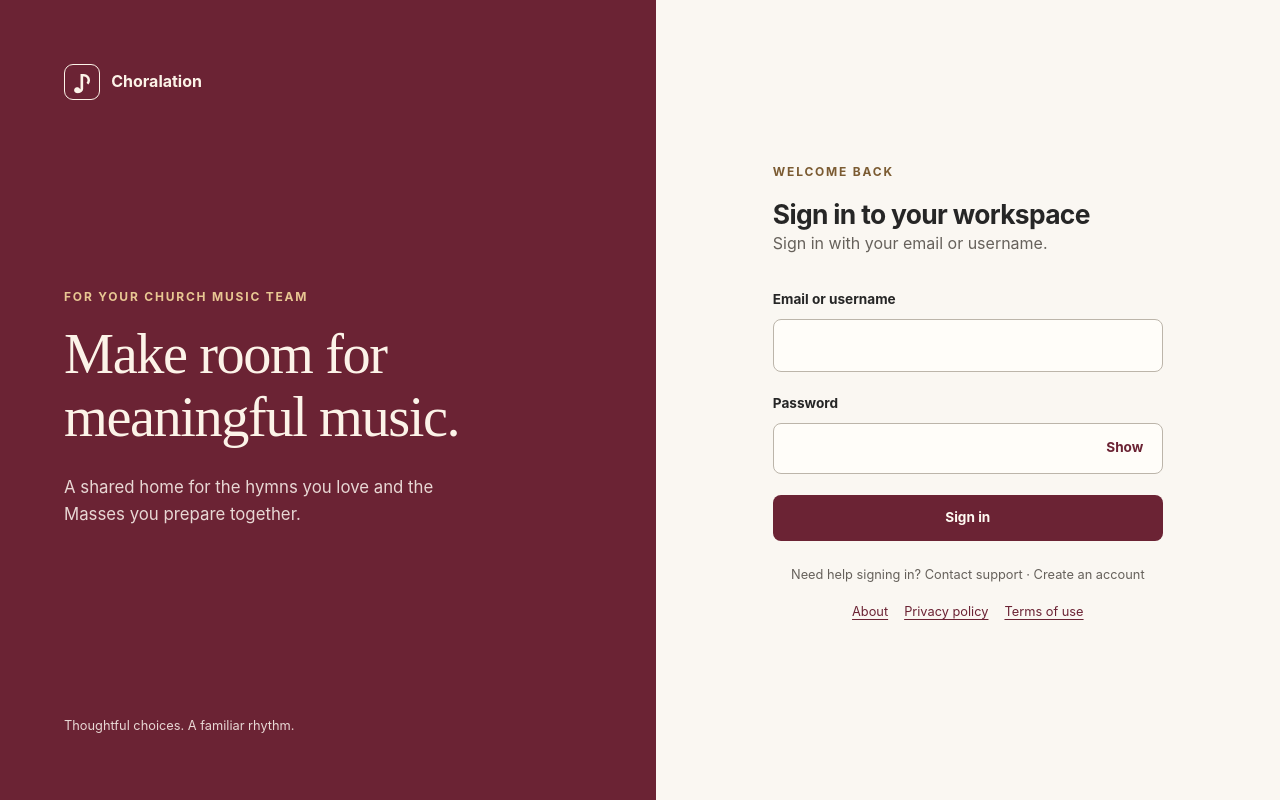
Test: preserves credentials after a failure and supports retry, login, and logout
Type "planner" into the field labelled "Email or username". click: (968, 345)
box: x1=773 y1=319 x2=1163 y2=372
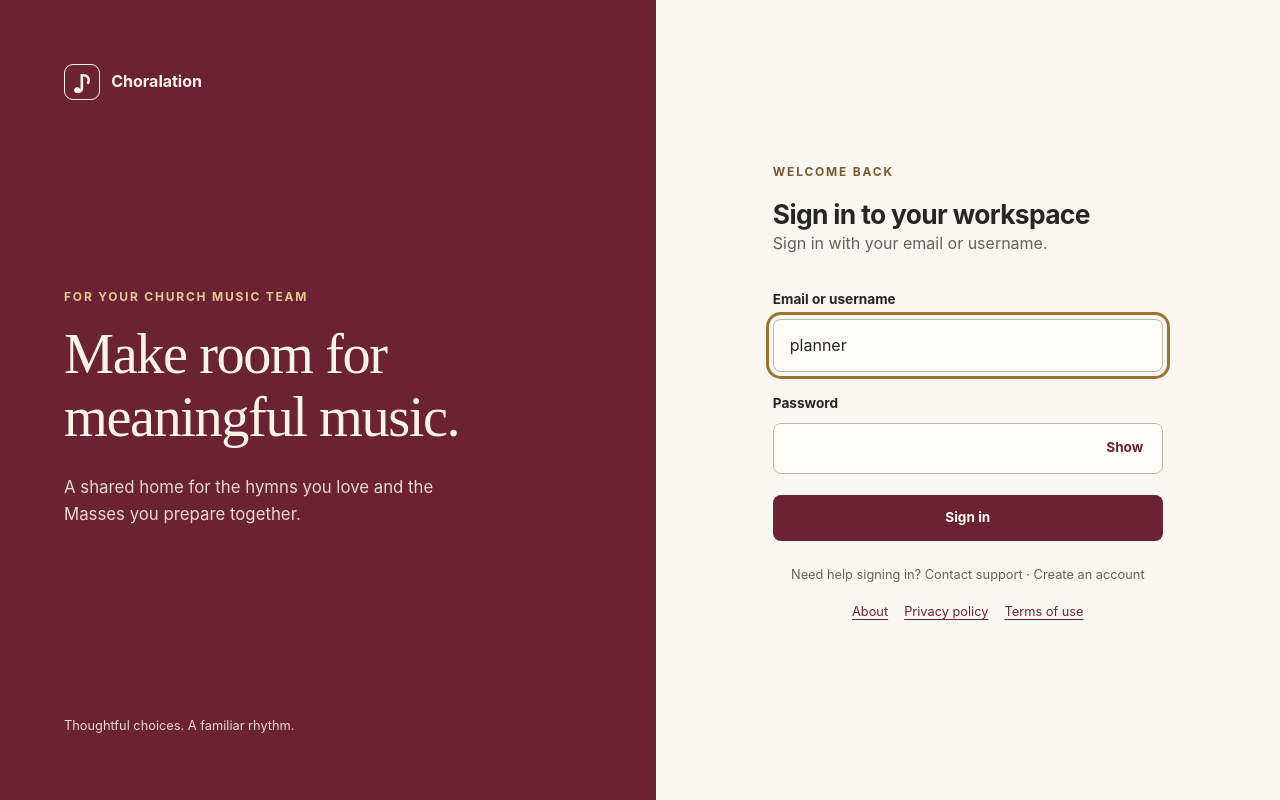
Type "kept-secret" into the password field labelled "Password". click: (968, 448)
box: x1=773 y1=423 x2=1163 y2=474
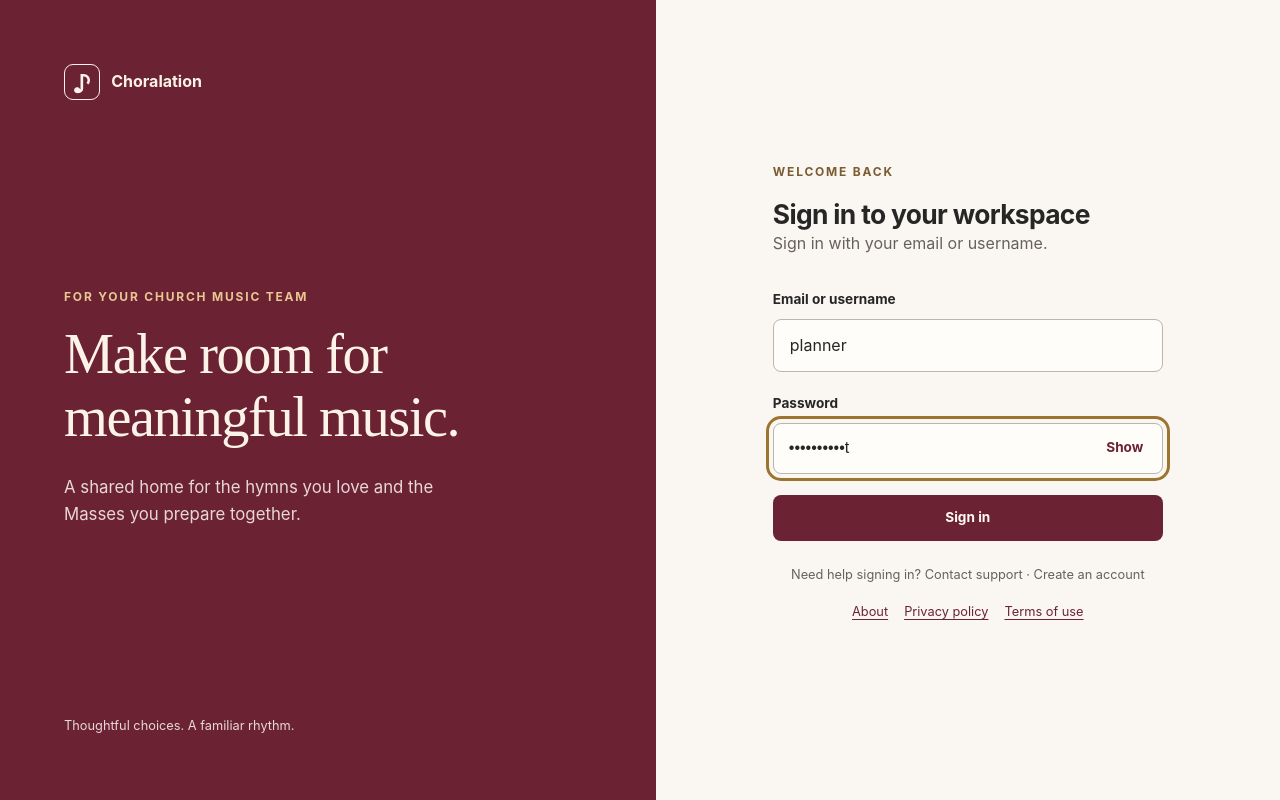
Click the button "Sign in". click: (968, 518)
box: x1=773 y1=495 x2=1163 y2=541
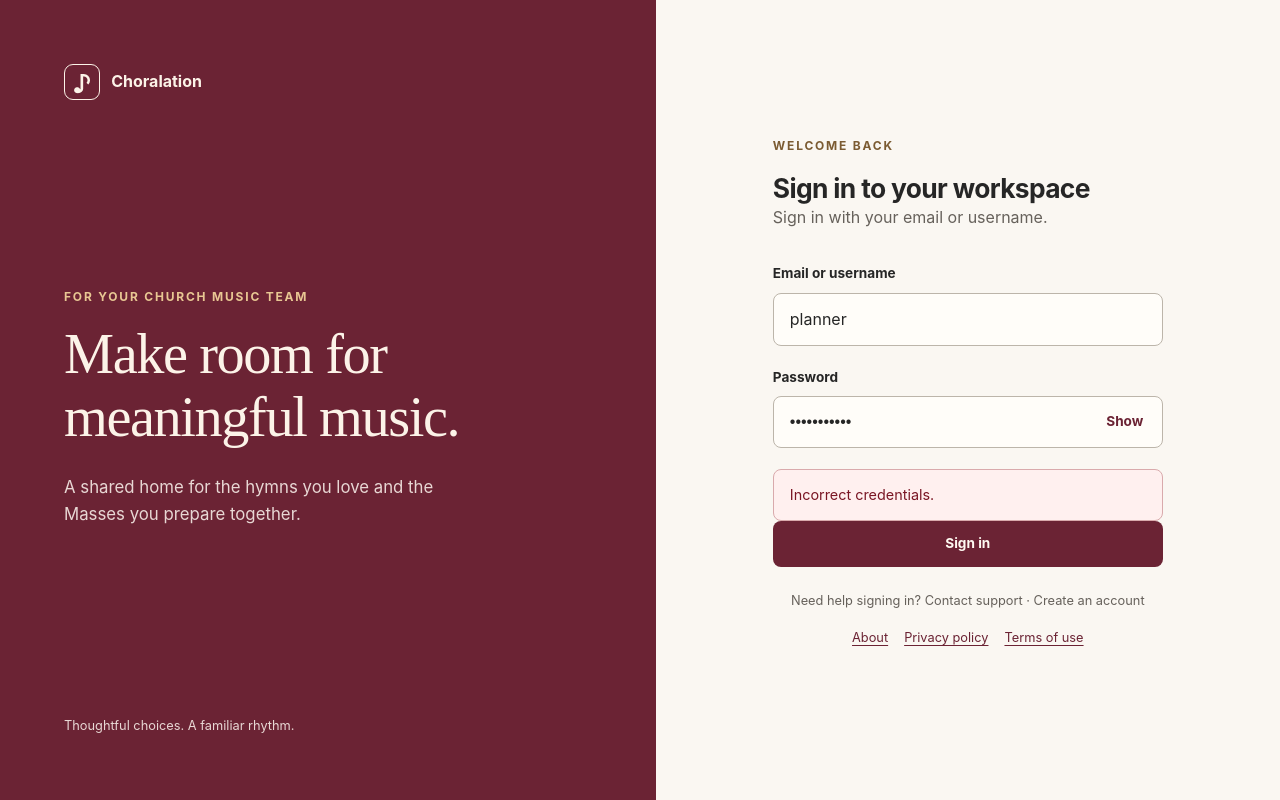
expect the message reads "Incorrect credentials.": met, box x1=790 y1=486 x2=934 y2=503
Click the button "Sign in". click: (968, 544)
box: x1=773 y1=521 x2=1163 y2=567
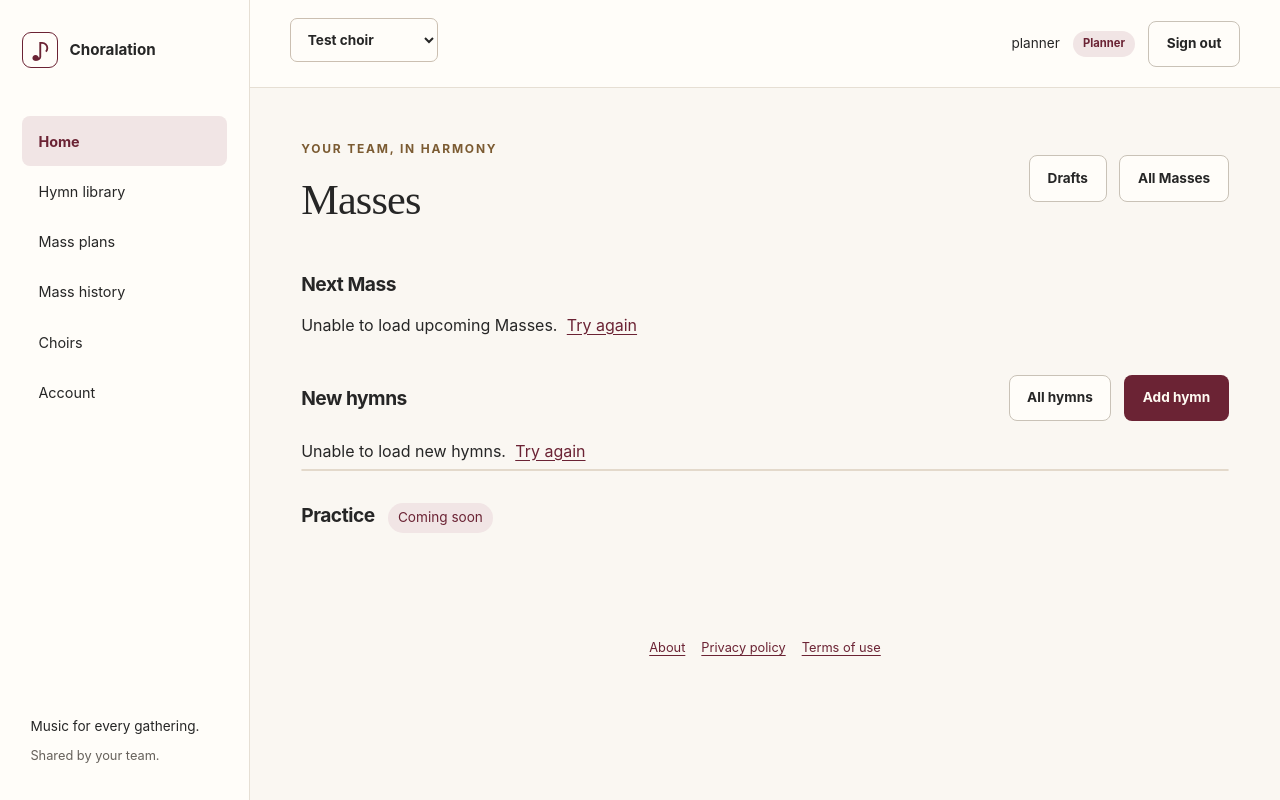
expect the heading "Masses" is shown: met, box x1=301 y1=176 x2=420 y2=223
expect the text "Planner" is shown: met, box x1=1073 y1=31 x2=1135 y2=56
Click the button "Sign out". click: (1194, 44)
box: x1=1148 y1=20 x2=1240 y2=67
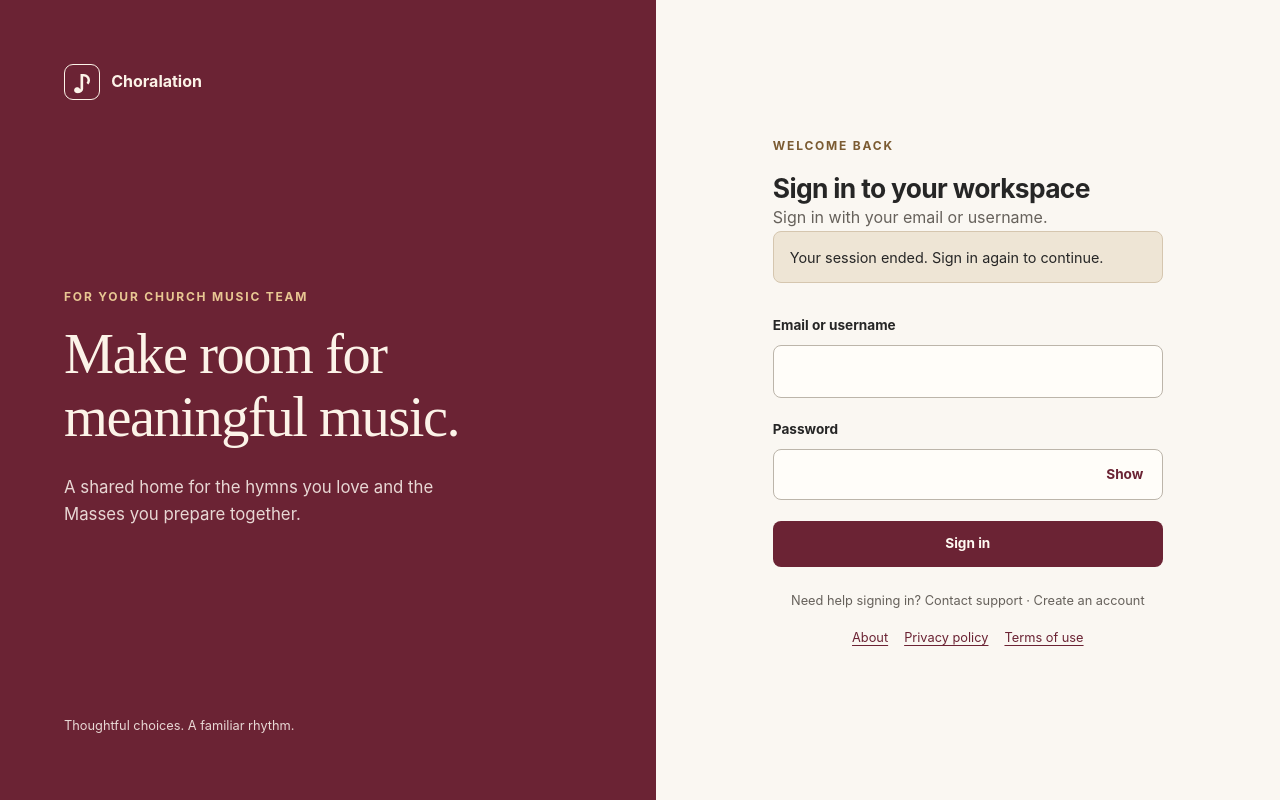
expect the heading "Sign in to your workspace" is shown: met, box x1=773 y1=172 x2=1090 y2=204
